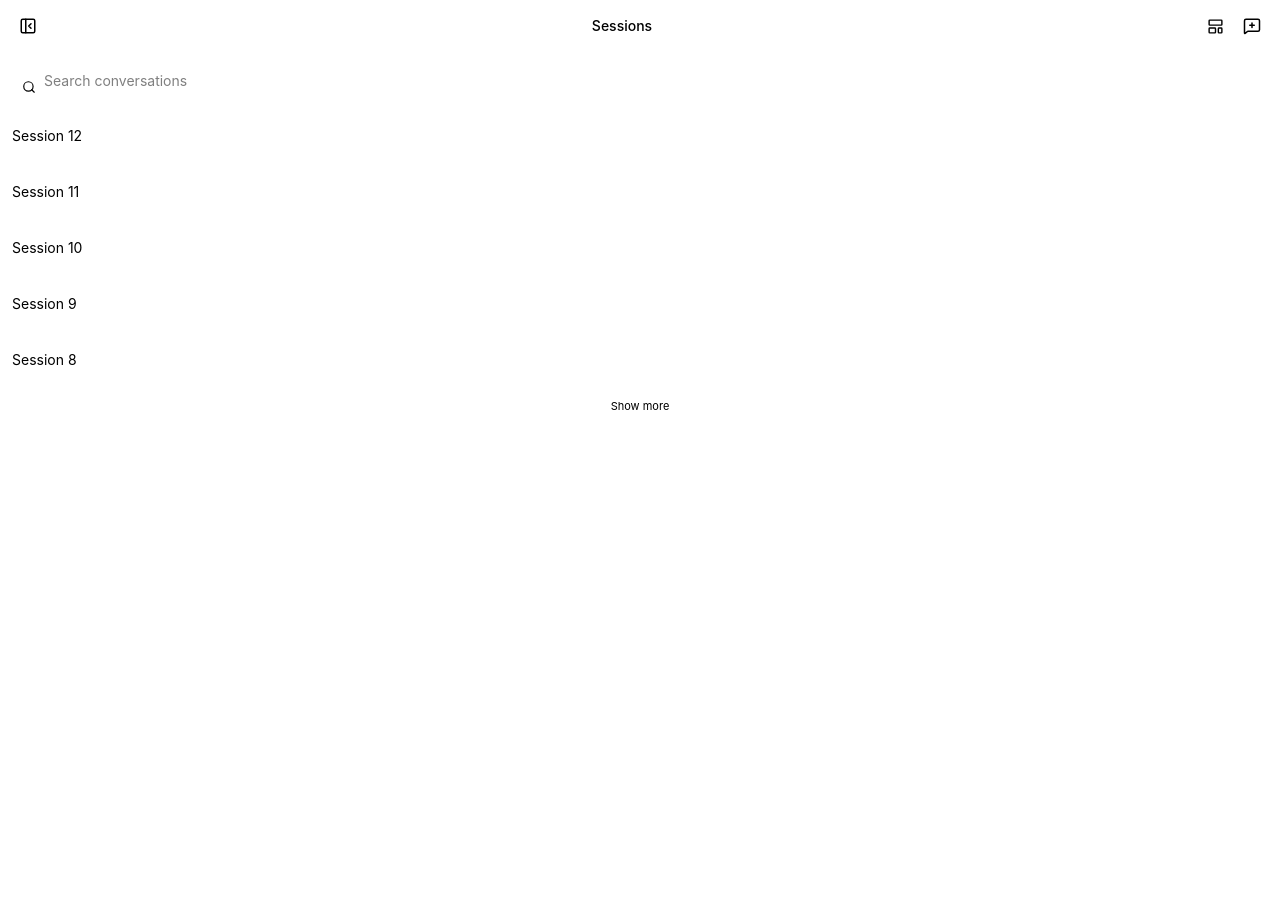
SessionList batching › shows five recent sessions per batch and hides the control after the last batch
Expected: the text "Session 12" is shown, top-left (12, 126), bottom-right (82, 146)
Expected: the text "Session 8" is shown, top-left (12, 350), bottom-right (77, 370)
Click the button "Show more".
click(640, 406)  # box top-left (12, 392), bottom-right (1268, 420)
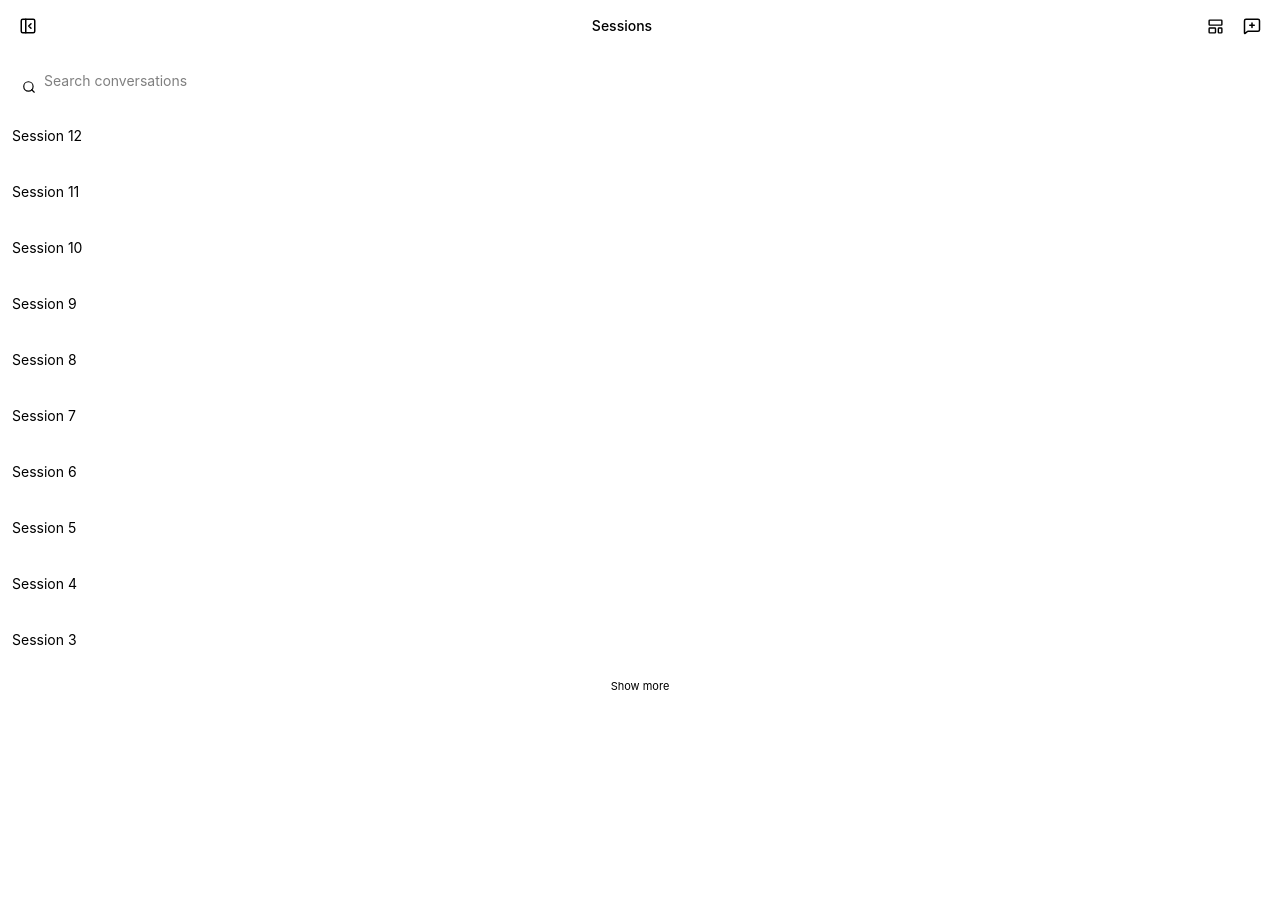
Expected: the text "Session 2" is not shown
Expected: the text "Session 3" is shown, top-left (12, 630), bottom-right (77, 650)
Click the button "Show more".
click(640, 686)  # box top-left (12, 672), bottom-right (1268, 700)
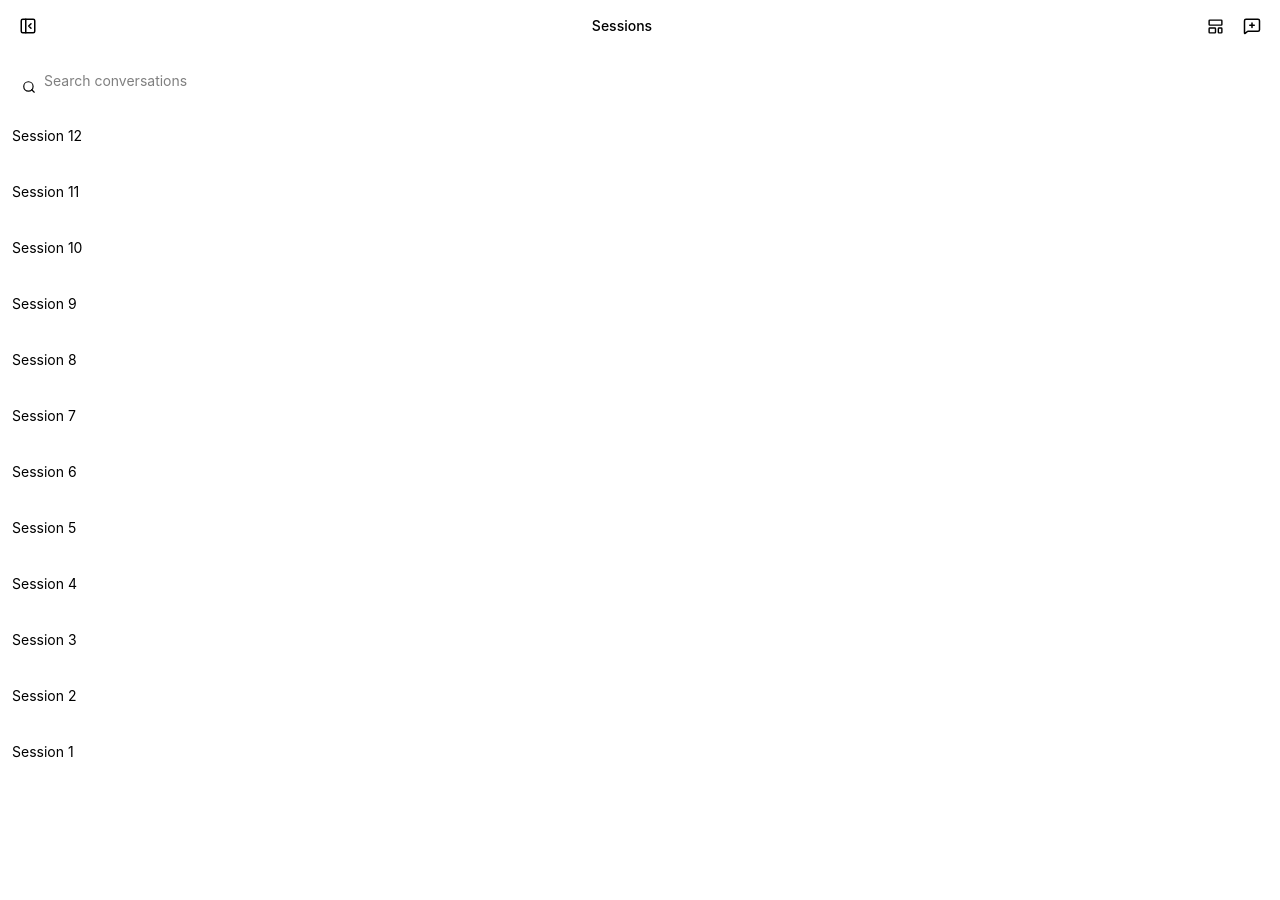
Expected: the text "Session 1" is shown, top-left (12, 742), bottom-right (74, 762)
Expected: the button "Show more" is gone
